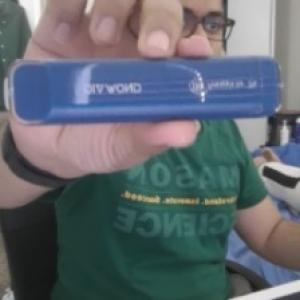Diamond-E-Ciggirate: (3, 50, 286, 133)
